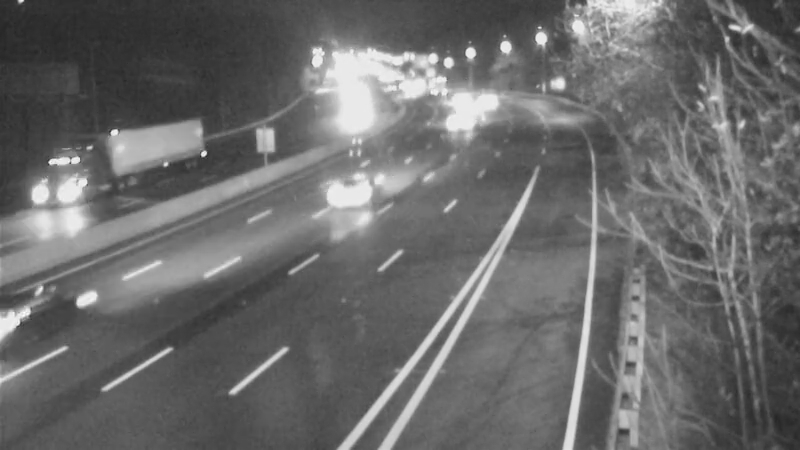vehicle: (1, 261, 94, 371), (302, 155, 382, 235), (57, 146, 137, 226), (415, 64, 465, 114), (428, 70, 478, 120), (461, 74, 511, 124), (447, 85, 497, 135), (438, 99, 488, 149)
